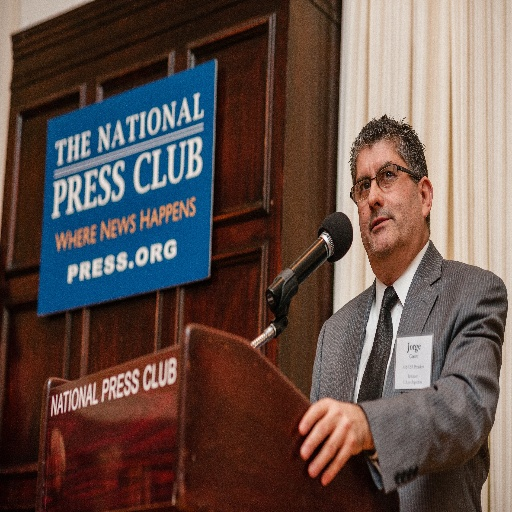hand: (297, 392, 380, 491)
